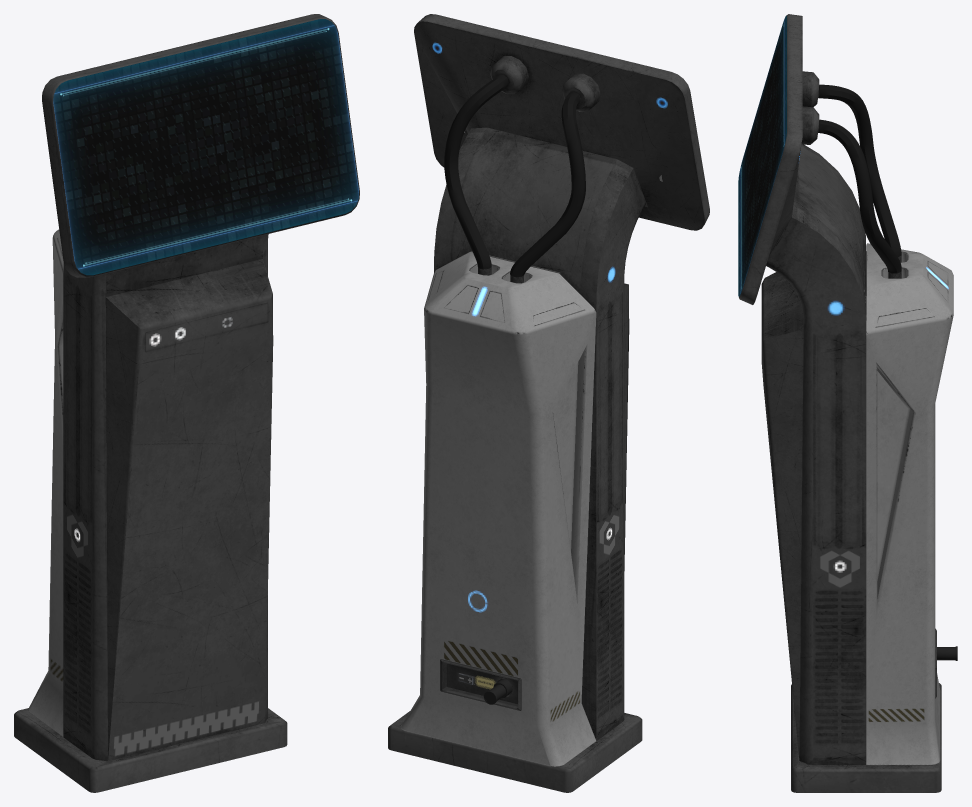
3 renders of one model, left to right at view 1: azimuth 30°, elevation 25°; view 2: azimuth 150°, elevation 25°; view 3: azimuth 270°, elevation 25°, orthographic. The views are drawn at different scales.
Parts seen in each view (by area): view 1: Body, Screen; view 2: Body; view 3: Body, Screen.
Part boxes in pixels (<box>): Body: <box>14,14,359,792</box>; Screen: <box>53,19,358,275</box>; Body: <box>388,14,709,792</box>; Body: <box>739,14,957,792</box>; Screen: <box>738,15,786,296</box>.
Bounding box in the file's own units: 0.5 × 1.19 × 0.3495.
Materials: 2 (2 with a texture image).
